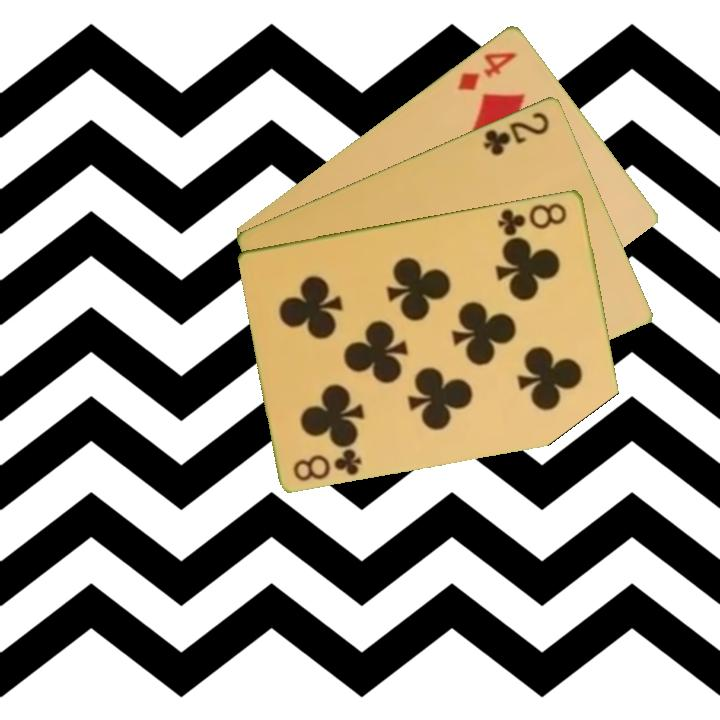2c: (480, 107, 553, 159)
4d: (454, 47, 520, 94)
8c: (494, 198, 570, 239), (290, 444, 365, 484)
